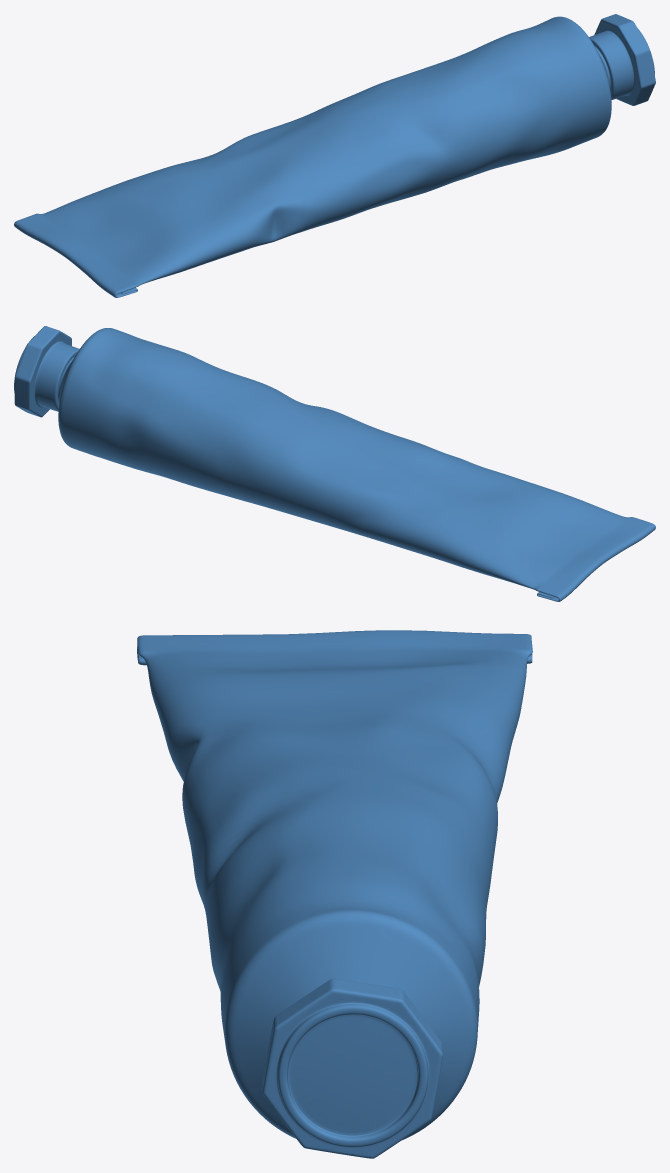
File: paint_container_tube_e01.glb
3 views of the same model, one above another, from view 1: azimuth 30°, elevation 25°; view 2: azimuth 150°, elevation 25°; view 3: azimuth 270°, elevation 25° (orthographic). The views are drawn at different scales.
Bounding box in the file's own units: 0.1152 × 0.0231 × 0.0343.
